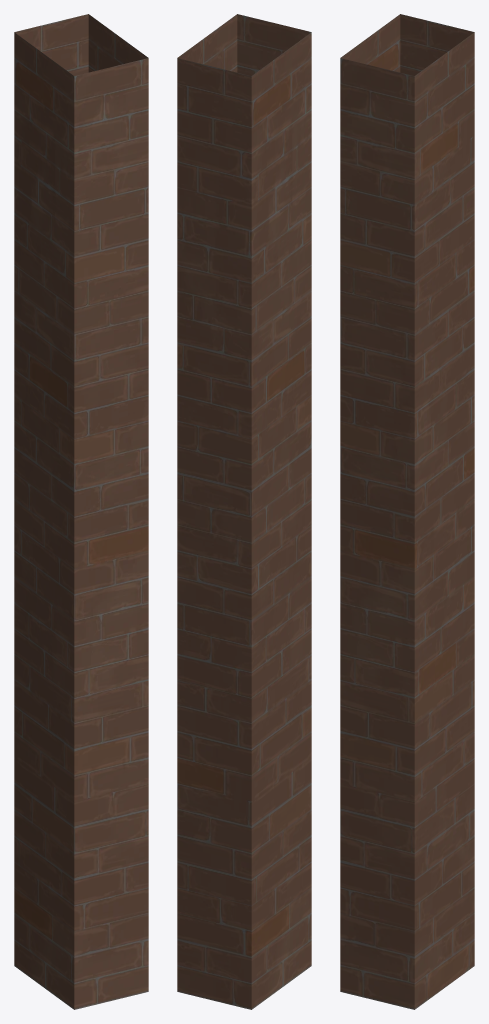
File: Brick_Column_Small.glb
3 views of the same model, side by side, from view 1: azimuth 30°, elevation 25°; view 2: azimuth 150°, elevation 25°; view 3: azimuth 330°, elevation 25° (orthographic).
Visible parts, largest first — view 1: Brick_Column_Small; view 2: Brick_Column_Small; view 3: Brick_Column_Small.
Part boxes in pixels (x1,y1,x2,y2): Brick_Column_Small: (14,14,148,1009); Brick_Column_Small: (177,14,311,1009); Brick_Column_Small: (340,14,474,1009).
Bounding box in the file's own units: 0.2501 × 3 × 0.3501.
Materials: 1 (1 with a texture image).
